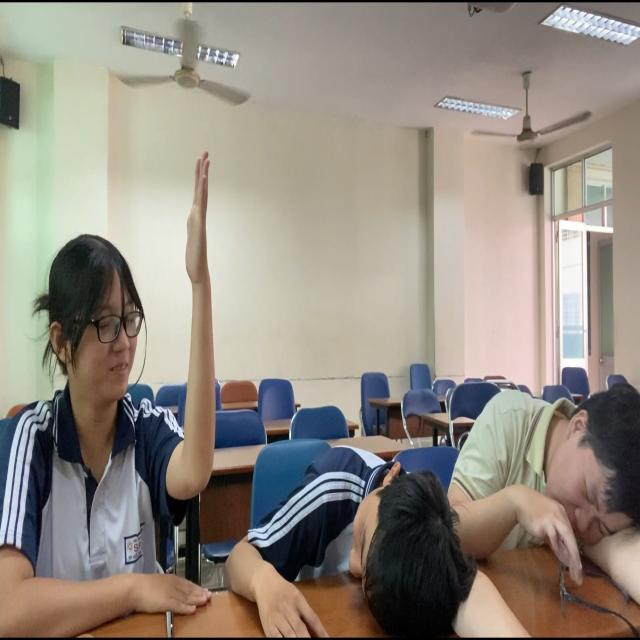raise_hand: (1, 148, 228, 640)
sleep: (228, 431, 470, 636), (452, 380, 640, 599)
